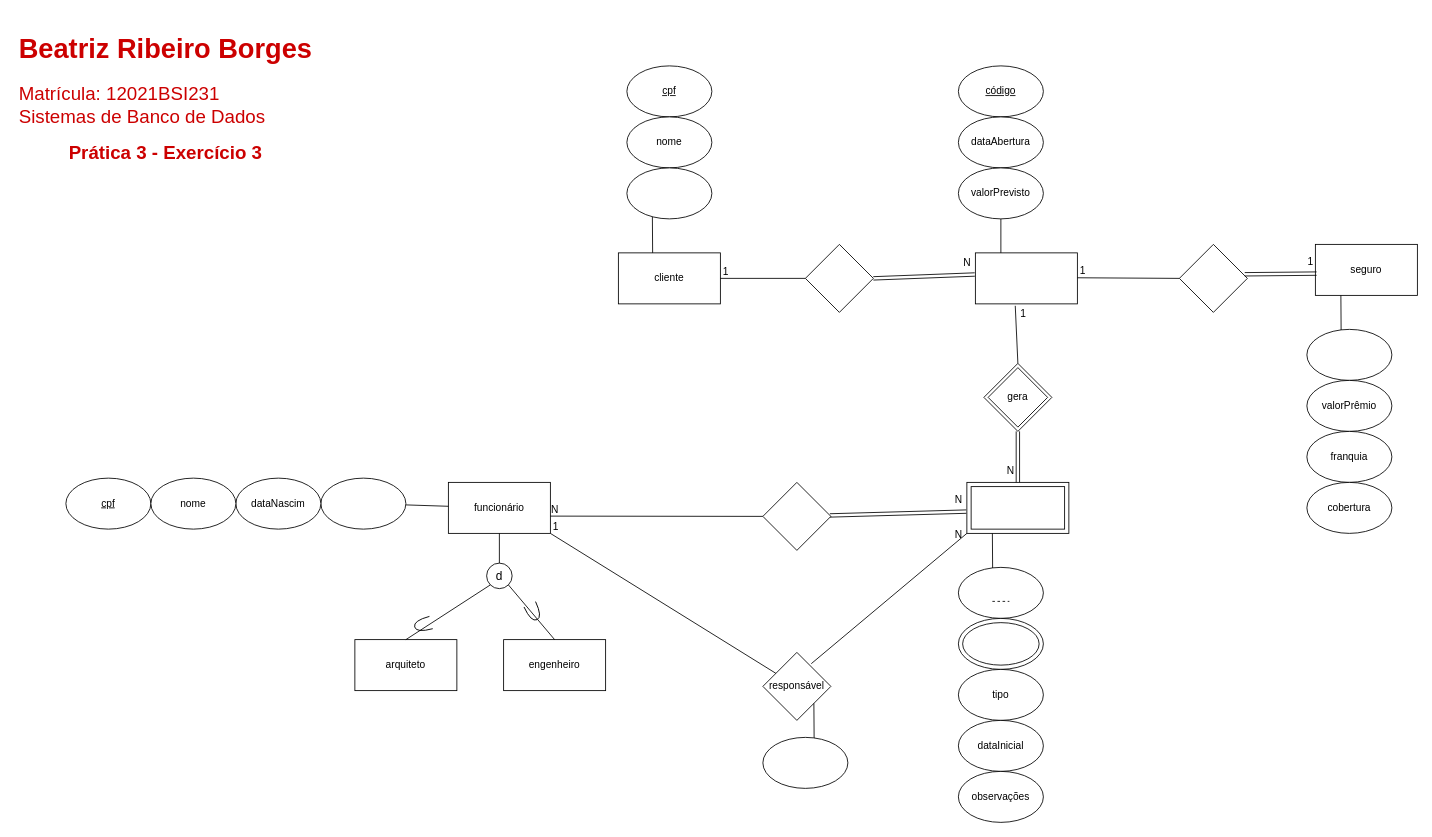
This 1432x837 diagram has some shape labels left out. Each missing label, with the box of its shape:
apólice: (1306, 329, 1392, 380)
arquivo: (958, 618, 1043, 669)
assina: (805, 244, 873, 312)
contrato: (975, 252, 1077, 304)
desenvolve: (762, 482, 831, 550)
endereço: (626, 167, 712, 219)
formação: (320, 477, 406, 529)
horas: (762, 737, 848, 788)
id: (958, 567, 1043, 618)
possui: (1179, 244, 1247, 312)
projeto: (966, 482, 1069, 533)
